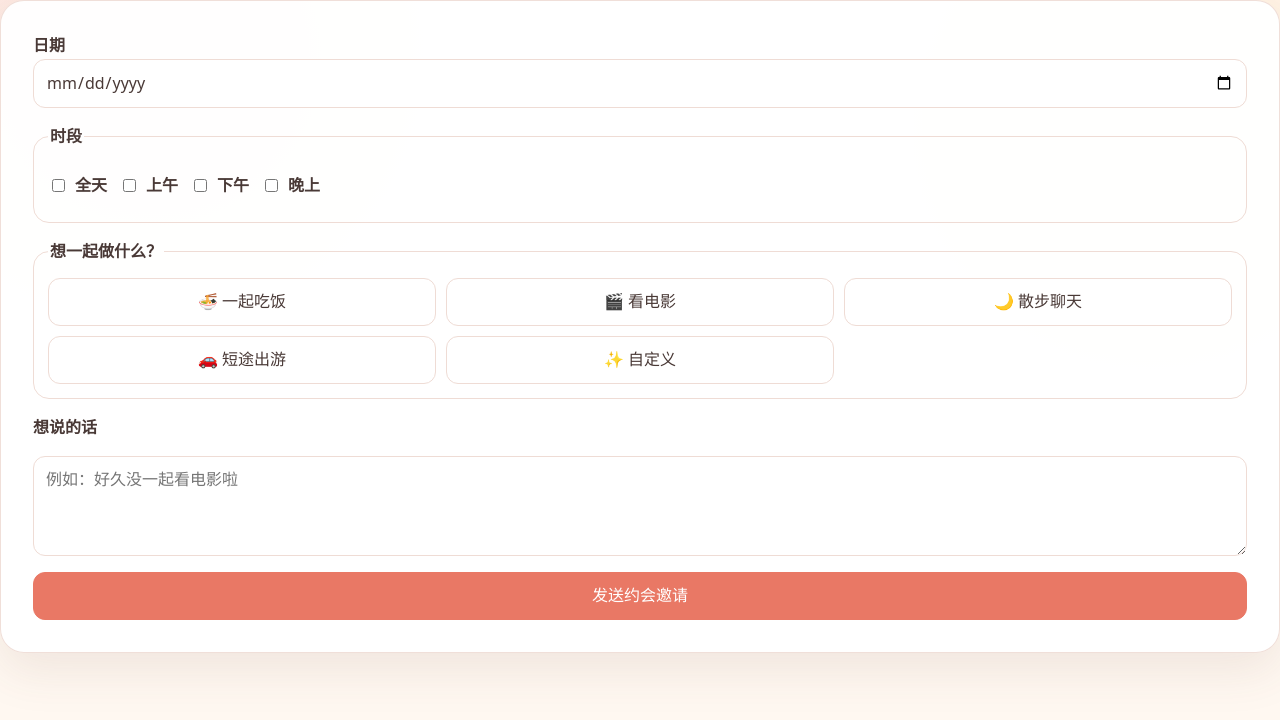
Test: saves a preset invitation and recipient notification
Type "2026-07-25" into the date field labelled "日期". click: (640, 83)
box: [33, 59, 1247, 108]
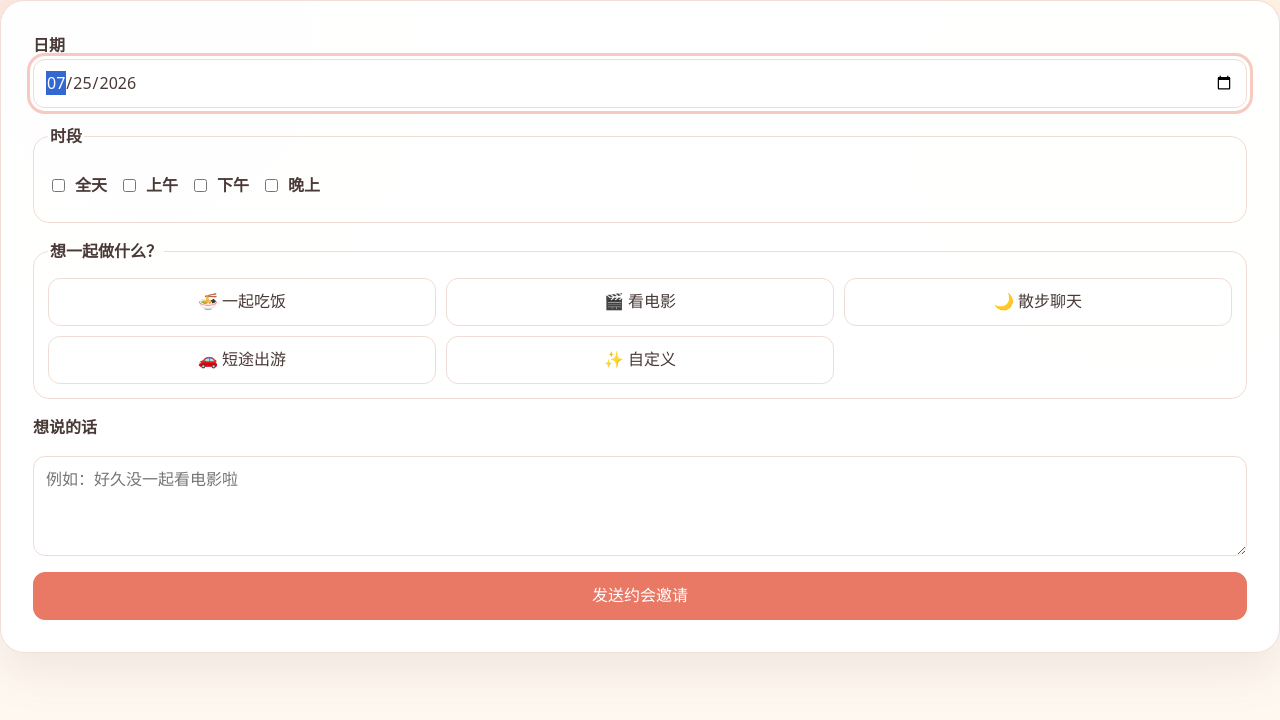
Click the checkbox labelled "晚上". click: (272, 186)
box: [265, 179, 278, 192]
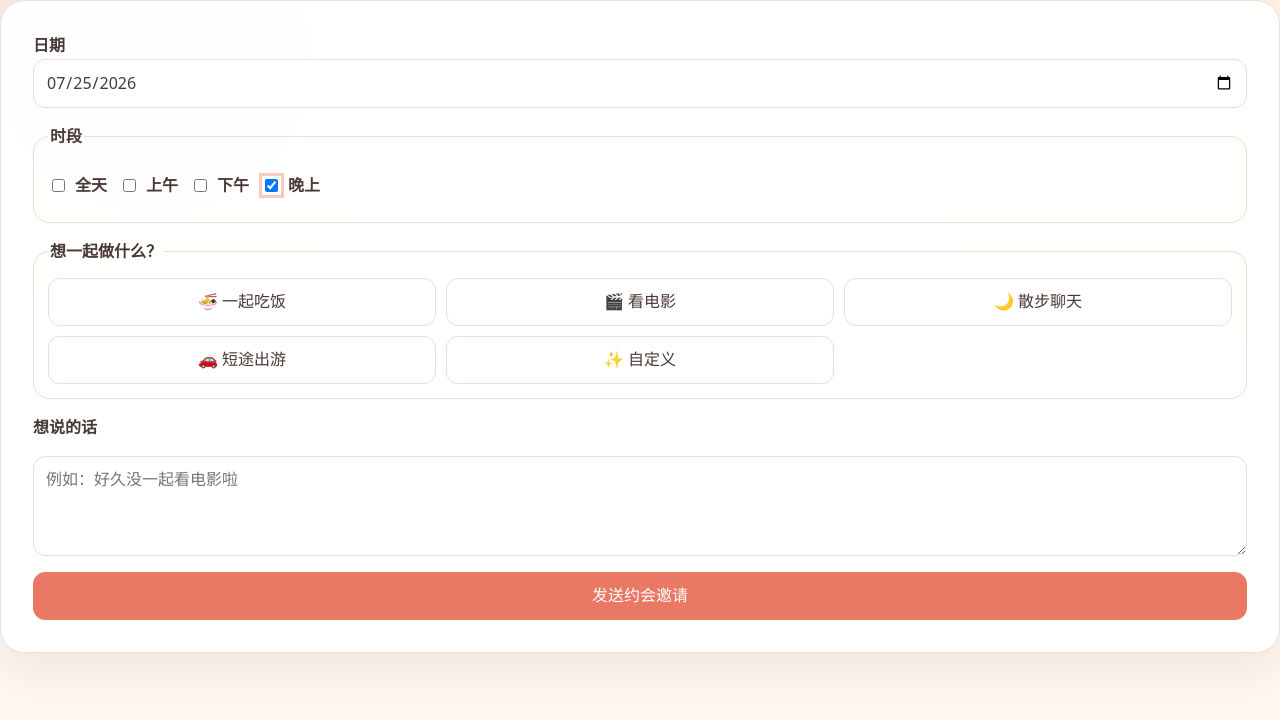
Click the button "🎬 看电影". click: (640, 302)
box: [446, 278, 834, 326]
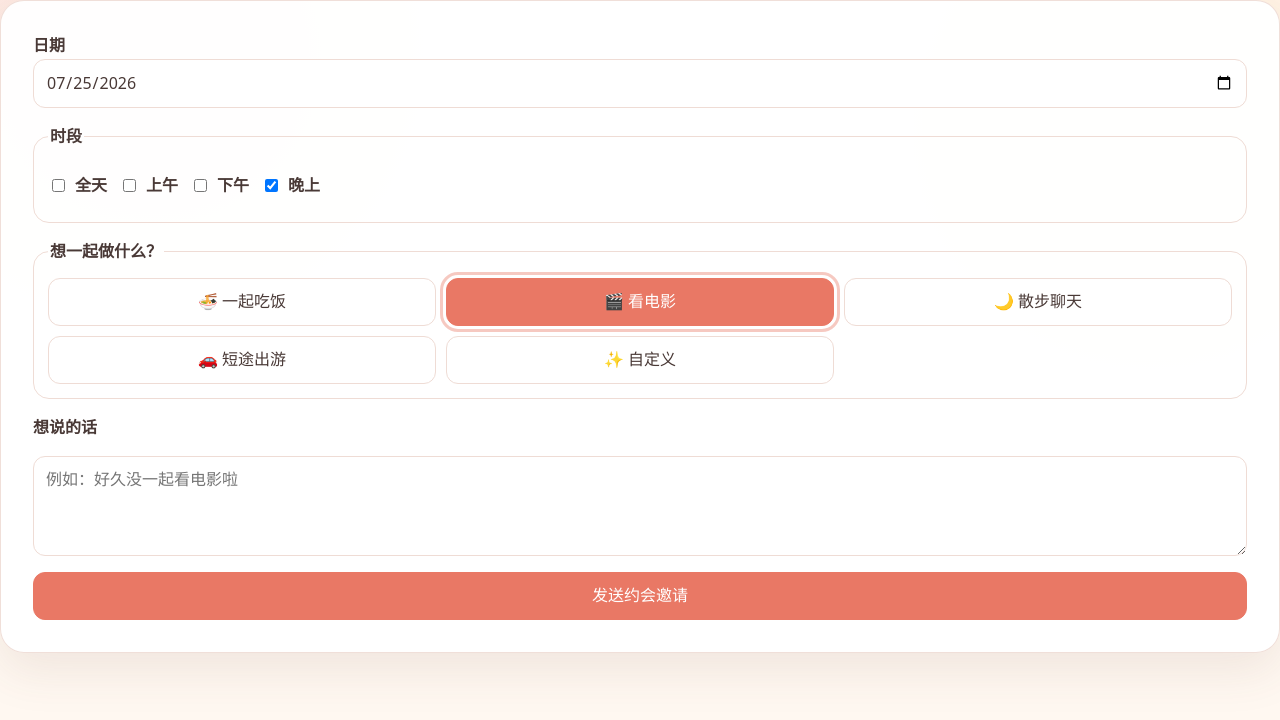
Type "一起去看新电影" into the text box labelled "想说的话". click: (640, 506)
box: [33, 456, 1247, 556]
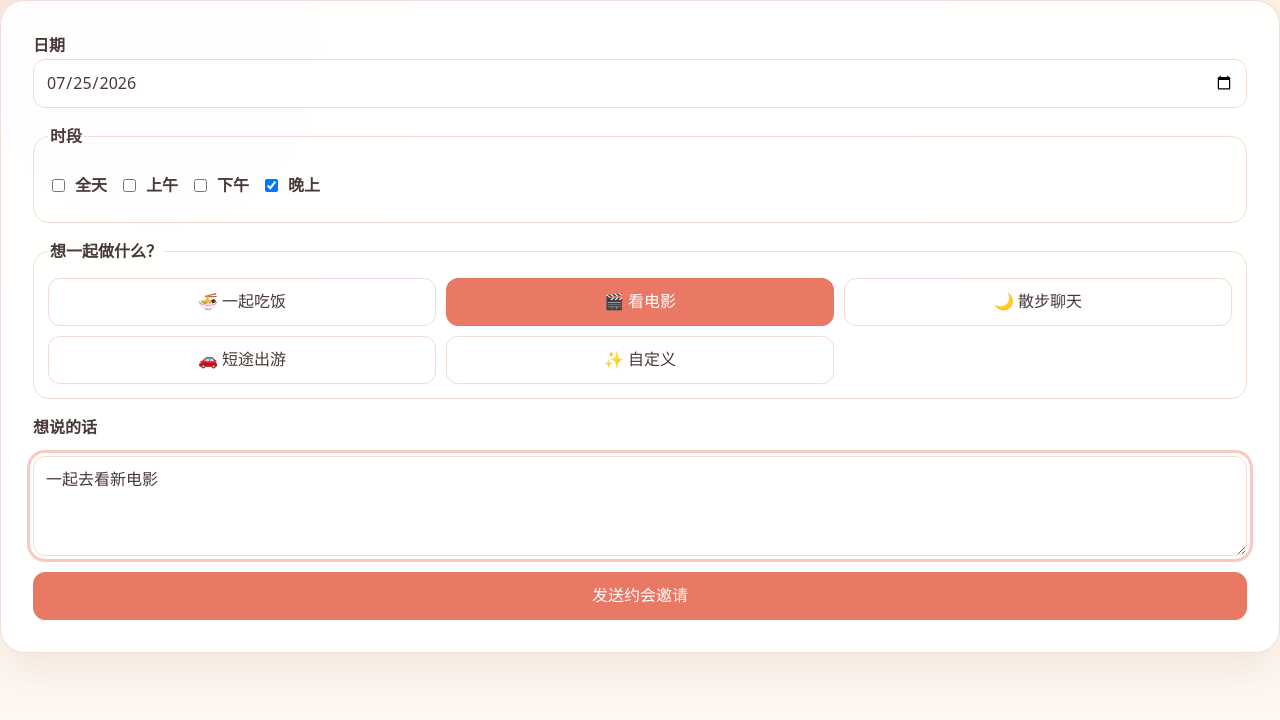
Click the button "发送约会邀请". click: (640, 596)
box: [33, 572, 1247, 620]
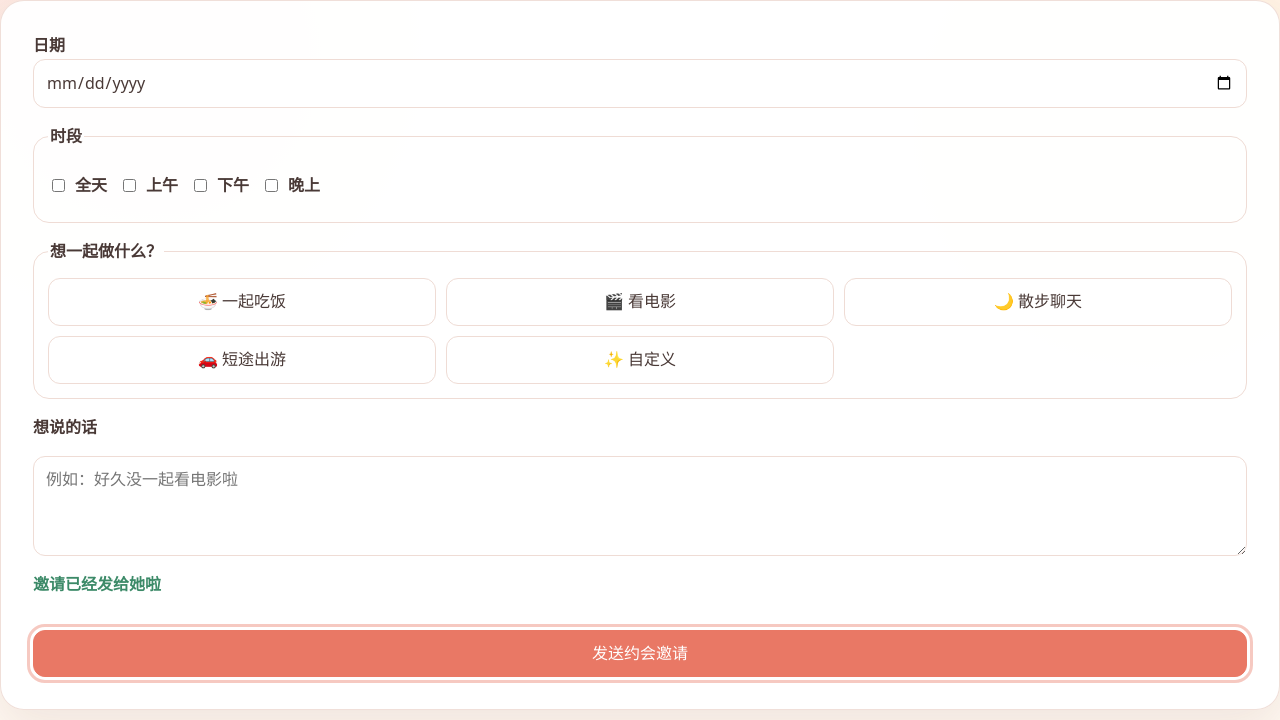
expect the text "邀请已经发给她啦" is shown: met, box [33, 573, 161, 595]
